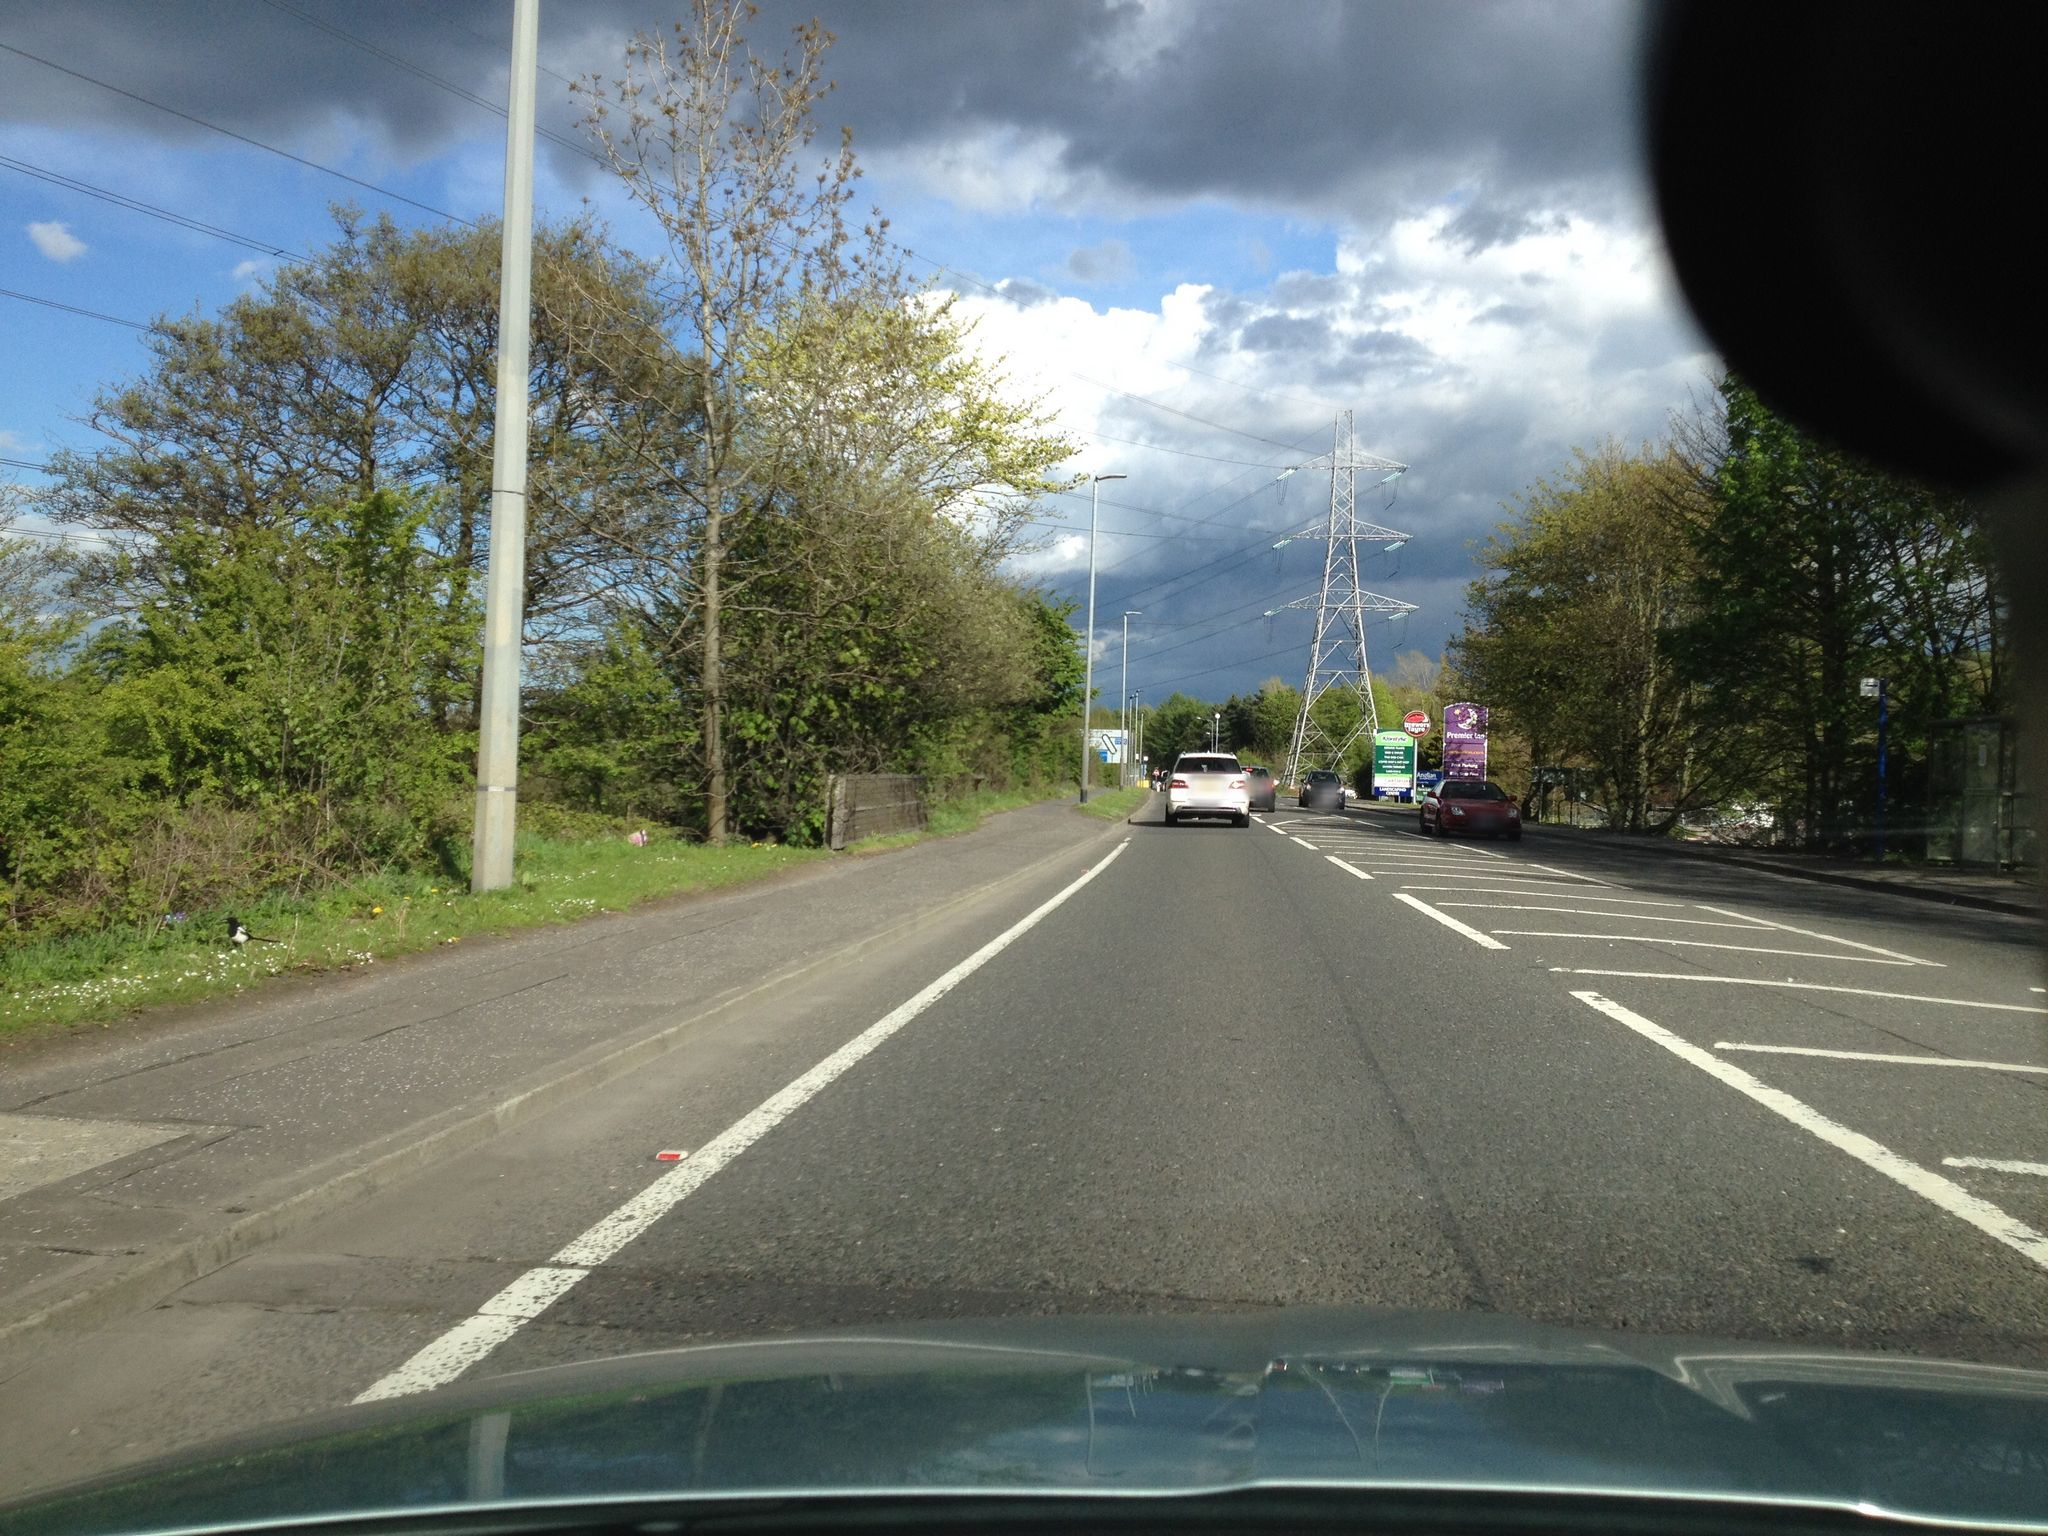car: (1166, 747, 1266, 829), (1417, 778, 1522, 841), (1297, 770, 1347, 810), (1238, 765, 1276, 813)
